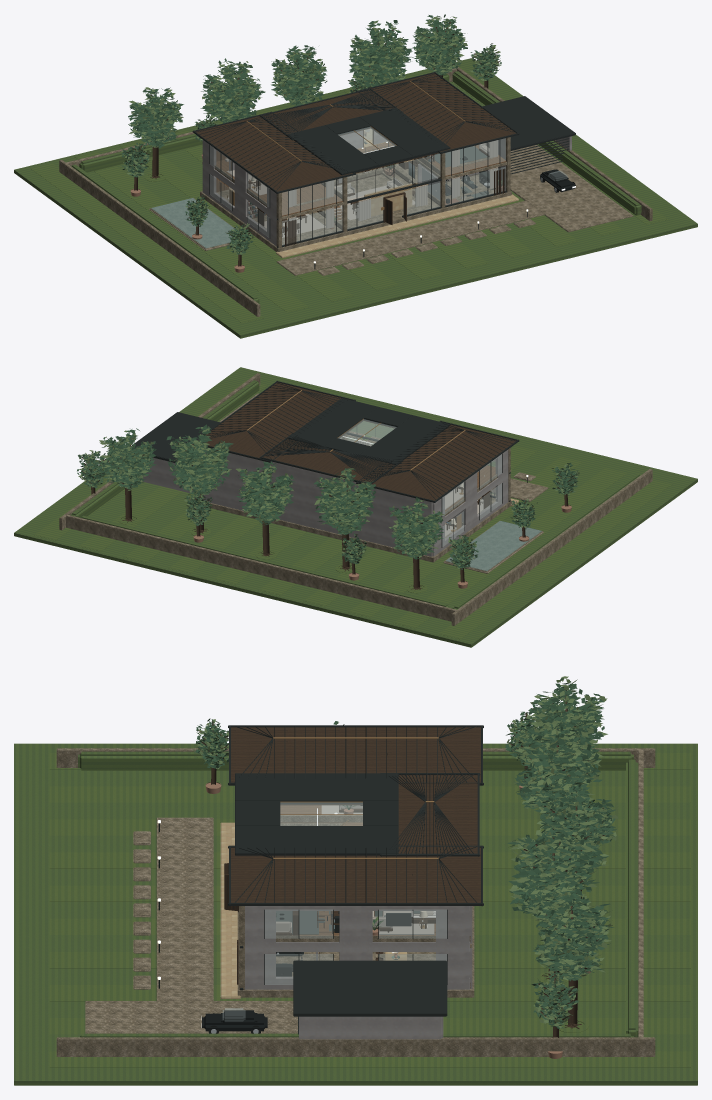
The model's file is chengyuan.glb.
3 renders of one model, top to bottom at view 1: azimuth 30°, elevation 25°; view 2: azimuth 150°, elevation 25°; view 3: azimuth 270°, elevation 25°, orthographic. The views are drawn at different scales.
Visible parts, largest first — view 1: Site__grass, Site__limestone, Site__grassAlt, Site__leaf, Roof__walnut, Roof__blackMetal, ExteriorShell__glass, Site__leafLight, ExteriorShell__limestone, Site__blackMetal, ExteriorShell__plaster, Floor1__fabric (+10 smaller); view 2: Site__grass, Site__grassAlt, Site__leaf, Roof__walnut, Site__limestone, Roof__blackMetal, ExteriorShell__plaster, Site__leafLight, ExteriorShell__glass, Site__water, Site__blackMetal, Site__walnut (+3 smaller); view 3: Site__grass, Site__grassAlt, Site__limestone, Roof__walnut, Roof__blackMetal, Site__leaf, Site__leafLight, ExteriorShell__plaster, Site__blackMetal, ExteriorShell__glass, Site__plaster, ExteriorShell__limestone (+10 smaller).
Part boxes in pixels (box(x1,y1,x2,y2)): Site__grass: box(14, 58, 697, 338); Site__limestone: box(59, 67, 652, 316); Site__grassAlt: box(30, 65, 668, 323); Site__leaf: box(122, 14, 501, 254); Roof__walnut: box(195, 73, 516, 191); Roof__blackMetal: box(192, 71, 519, 193); ExteriorShell__glass: box(210, 138, 505, 245); Site__leafLight: box(121, 16, 501, 254); ExteriorShell__limestone: box(200, 137, 511, 251); Site__blackMetal: box(314, 96, 575, 269); ExteriorShell__plaster: box(202, 138, 505, 246); Floor1__fabric: box(226, 167, 497, 237); Site__grass: box(14, 367, 697, 647); Site__grassAlt: box(34, 380, 672, 639); Site__leaf: box(77, 424, 578, 569); Roof__walnut: box(198, 382, 516, 500); Site__limestone: box(59, 373, 652, 625); Roof__blackMetal: box(197, 381, 519, 502); ExteriorShell__plaster: box(203, 447, 508, 556); Site__leafLight: box(78, 426, 579, 568); ExteriorShell__glass: box(340, 421, 501, 546); Site__water: box(446, 521, 541, 571); Site__blackMetal: box(131, 412, 527, 482); Site__walnut: box(81, 434, 575, 589); Site__grass: box(14, 743, 697, 1085); Site__grassAlt: box(49, 753, 690, 1067); Site__limestone: box(56, 748, 655, 1056); Roof__walnut: box(231, 727, 480, 902); Roof__blackMetal: box(228, 725, 483, 906); Site__leaf: box(194, 678, 616, 1028); Site__leafLight: box(192, 676, 618, 1028); ExteriorShell__plaster: box(245, 906, 472, 989); Site__blackMetal: box(158, 823, 447, 1037); ExteriorShell__glass: box(265, 910, 446, 984); Site__plaster: box(299, 1016, 443, 1039); ExteriorShell__limestone: box(237, 823, 474, 997).
Size of the model in its own units: 56 by 11.49 by 48.
36 materials, 11 textured.
